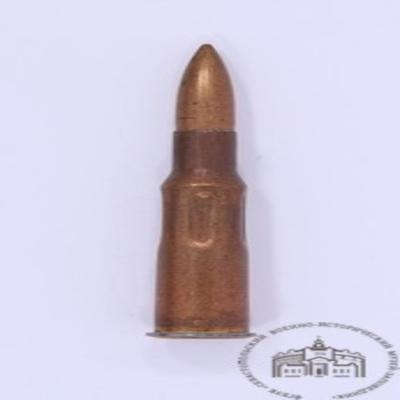weapon: (147, 44, 251, 340)
